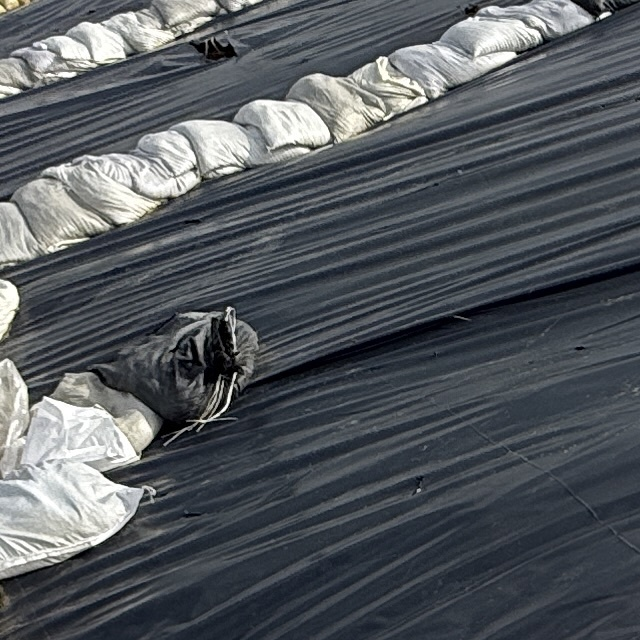sandbag: (92, 307, 258, 424), (0, 463, 143, 580), (51, 373, 162, 454), (20, 398, 139, 472), (170, 120, 308, 176), (13, 178, 110, 254), (388, 44, 517, 100), (43, 164, 159, 226), (286, 74, 387, 143), (72, 153, 200, 201), (234, 99, 331, 151), (348, 57, 427, 120), (477, 0, 595, 41), (438, 16, 543, 58), (0, 359, 30, 479), (11, 46, 98, 84), (102, 12, 175, 54), (134, 131, 197, 177), (67, 22, 131, 65), (136, 9, 213, 38), (151, 0, 219, 27), (33, 36, 91, 62), (217, 0, 264, 13), (204, 166, 242, 180)
